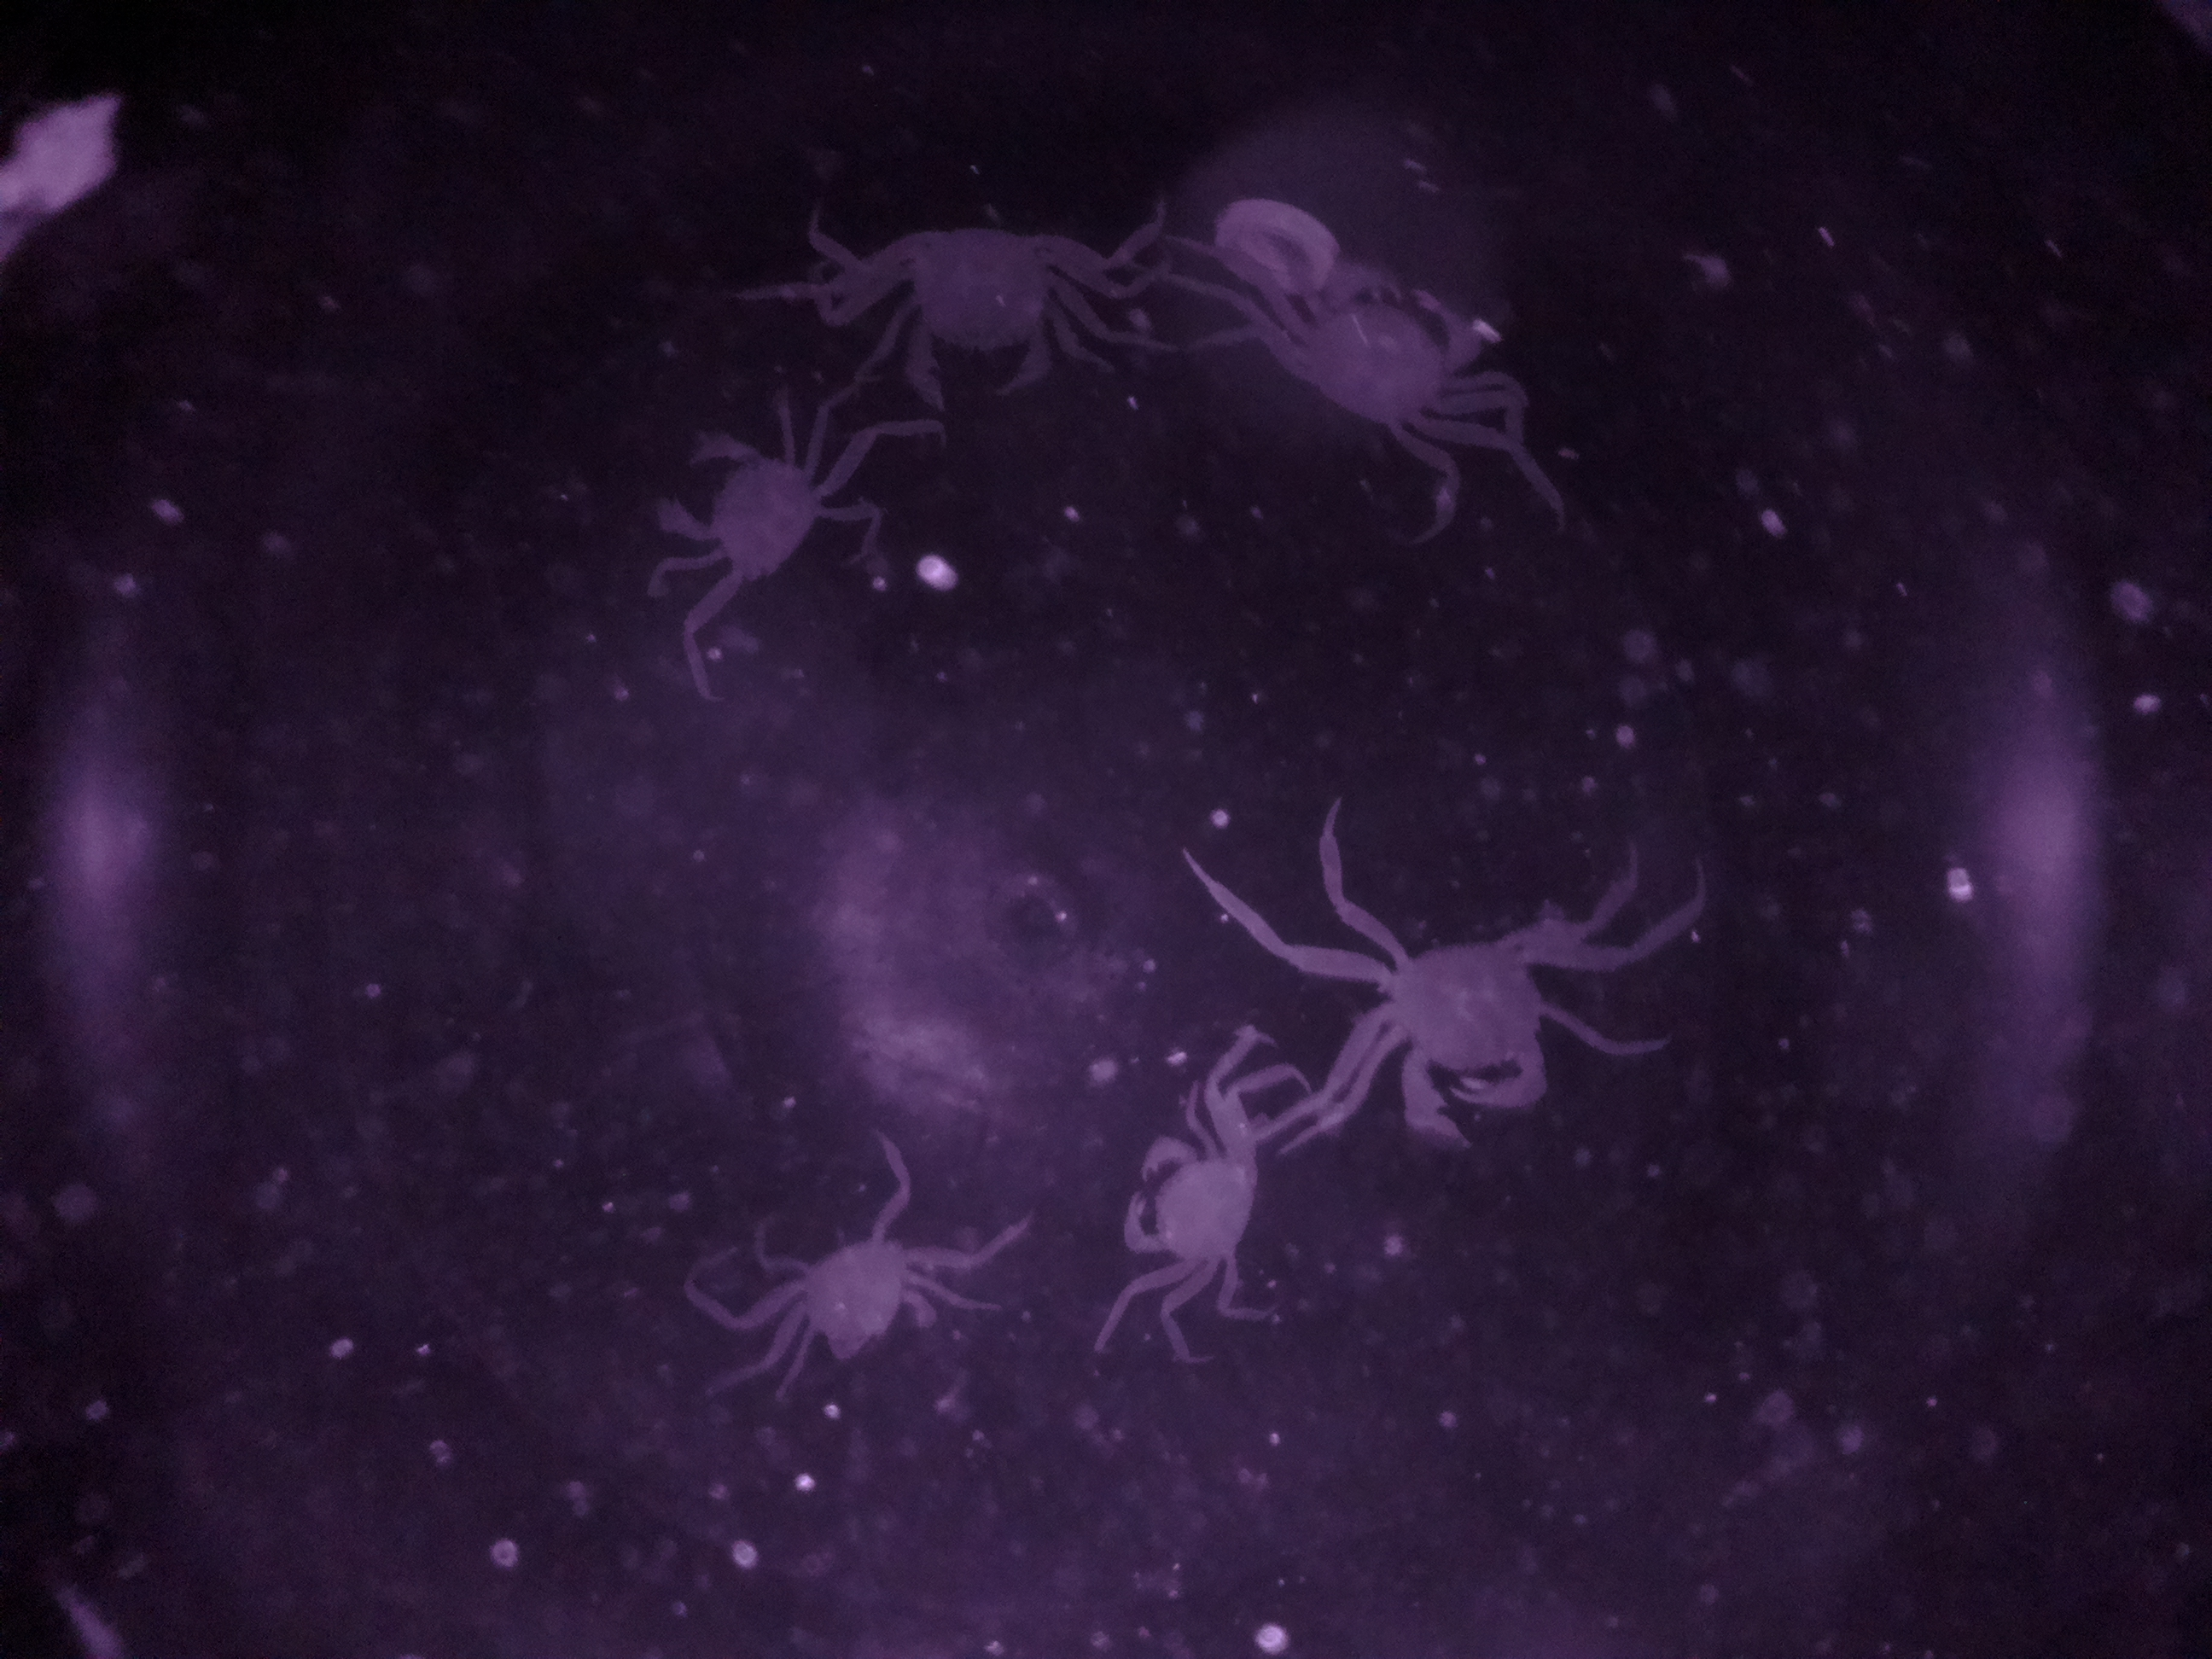Crab: (1289, 903, 1648, 1169), (841, 193, 1118, 437), (1195, 258, 1501, 477), (643, 404, 885, 653), (742, 1187, 982, 1412), (1094, 1093, 1292, 1314)
